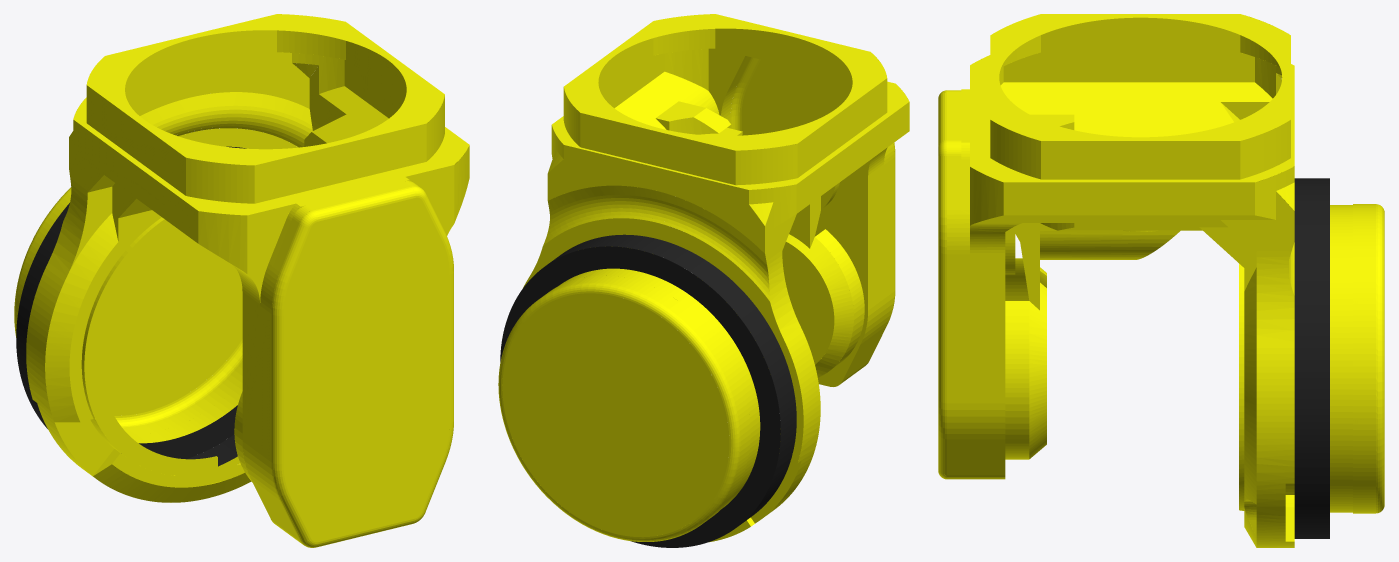
3 renders of one model, left to right at view 1: azimuth 30°, elevation 25°; view 2: azimuth 150°, elevation 25°; view 3: azimuth 270°, elevation 25°, orthographic. The views are drawn at different scales.
Parts seen in each view (by area): view 1: node; view 2: node; view 3: node.
Part boxes in pixels (box(x1,y1,x2,y2)): node: box(14, 14, 469, 547); node: box(498, 14, 909, 547); node: box(938, 14, 1384, 547).
Size of the model in its own units: 214 by 282 by 252.
